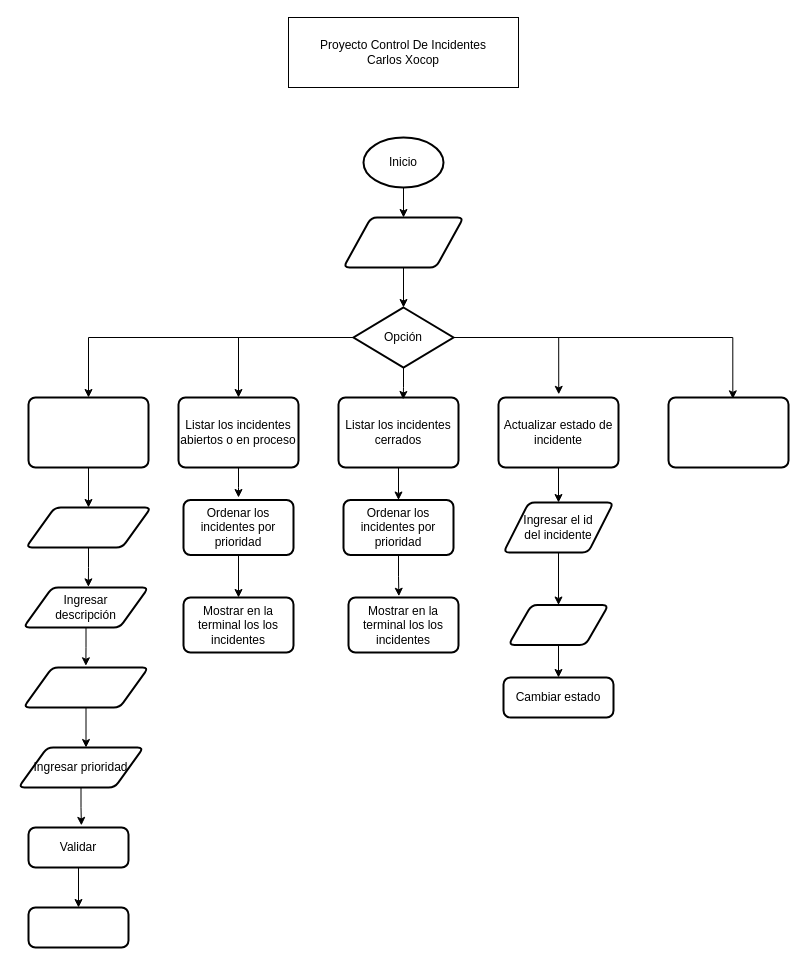
The diagram is 806 pixels wide and 966 high, and some of its shapes have lost their labels. Each missing label, with the box of its shape:
Crear un incidente: (27, 396, 149, 468)
Crear y mostrar incidente: (27, 906, 129, 948)
Finalizar el programa: (667, 396, 789, 468)
Ingresar nuevo estado: (507, 604, 609, 646)
Ingresar quien lo reporta: (22, 666, 149, 708)
Ingresar título: (24, 506, 152, 548)
Mostrar menú: (342, 216, 464, 268)
